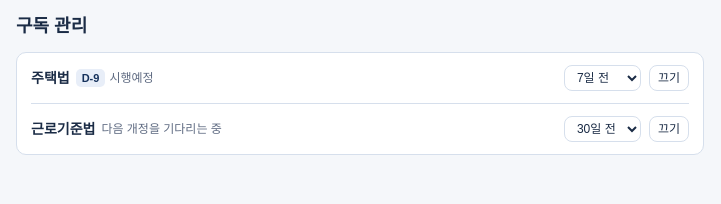
Test: SubscriptionListView › PUT 이 실패하면 시점이 되돌아가고 안내
Step 1. Select "1일 전" in the dropdown named "주택법 알림 시점" → [602, 78], box [564,65,641,91]
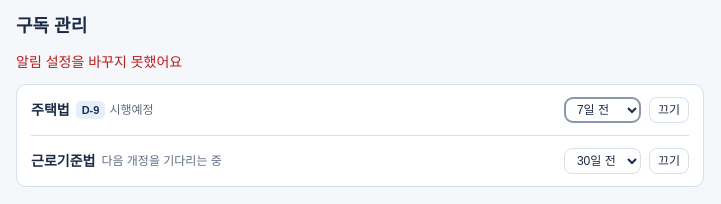
Result: the message reads "알림 설정을 바꾸지 못했어요" at [16,54,182,70]
